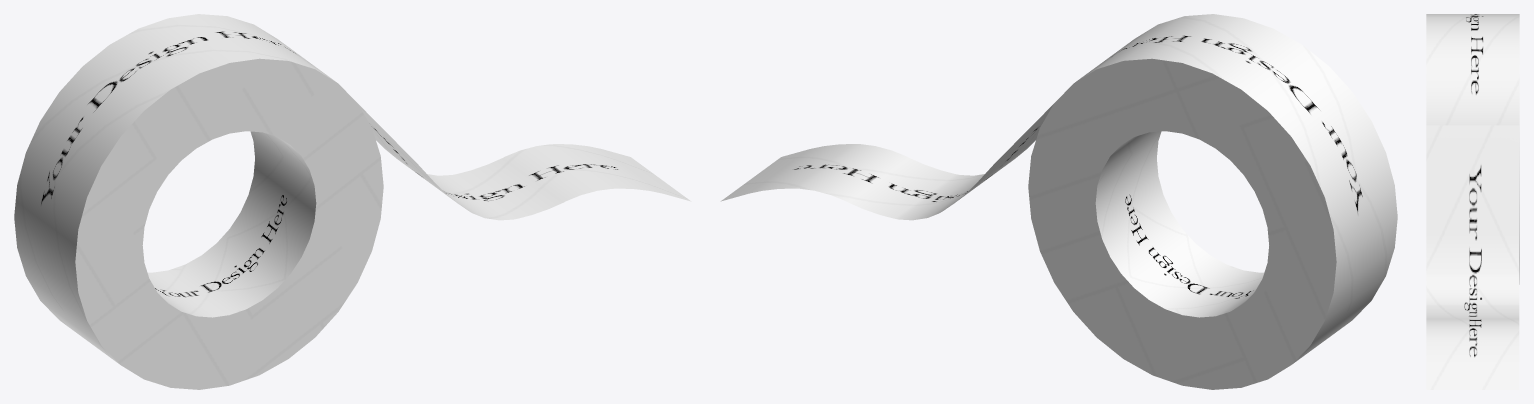
File: Box_Tape.glb
3 renders of one model, left to right at view 1: azimuth 30°, elevation 25°; view 2: azimuth 150°, elevation 25°; view 3: azimuth 270°, elevation 25°, orthographic. The views are drawn at different scales.
Visible parts, largest first — view 1: Tape_roll; view 2: Tape_roll; view 3: Tape_roll.
Boxes of the visible parts, bbox=[...] form: Tape_roll: bbox=[14, 14, 691, 389]; Tape_roll: bbox=[720, 14, 1397, 389]; Tape_roll: bbox=[1426, 14, 1519, 389].
Size of the model in its own units: 0.118 by 0.059 by 0.0203.
1 material, 1 textured.
